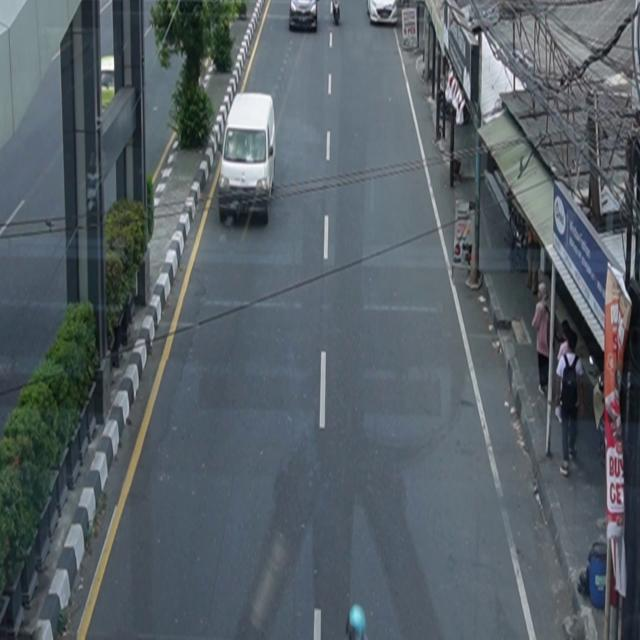car: (289, 1, 318, 32), (367, 1, 398, 26)
truck: (219, 92, 277, 225)
